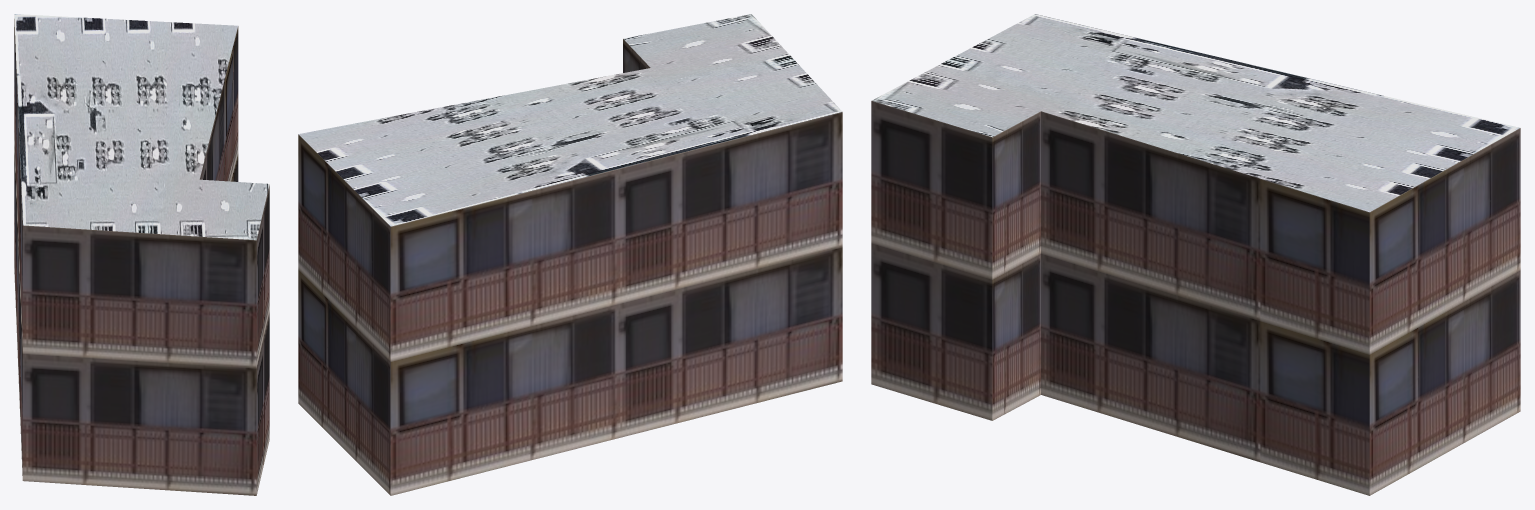
Rendered from ResTex__3344.fbx.
3 views of the same model, side by side, from view 1: azimuth 30°, elevation 25°; view 2: azimuth 150°, elevation 25°; view 3: azimuth 270°, elevation 25° (orthographic). The views are drawn at different scales.
Visible parts, largest first — view 1: CityEngineMaterial_6_m, CityEngineMaterial_4_m; view 2: CityEngineMaterial_6_m, CityEngineMaterial_4_m; view 3: CityEngineMaterial_6_m, CityEngineMaterial_4_m.
Part boxes in pixels (x1,y1,x2,y2): CityEngineMaterial_6_m: (14, 19, 269, 495); CityEngineMaterial_4_m: (14, 14, 269, 240); CityEngineMaterial_6_m: (298, 39, 842, 495); CityEngineMaterial_4_m: (298, 14, 842, 226); CityEngineMaterial_6_m: (871, 101, 1520, 495); CityEngineMaterial_4_m: (872, 14, 1519, 212).
Bounding box in the file's own units: 8.99 × 6 × 12.44.
Materials: 2 (2 with a texture image).
